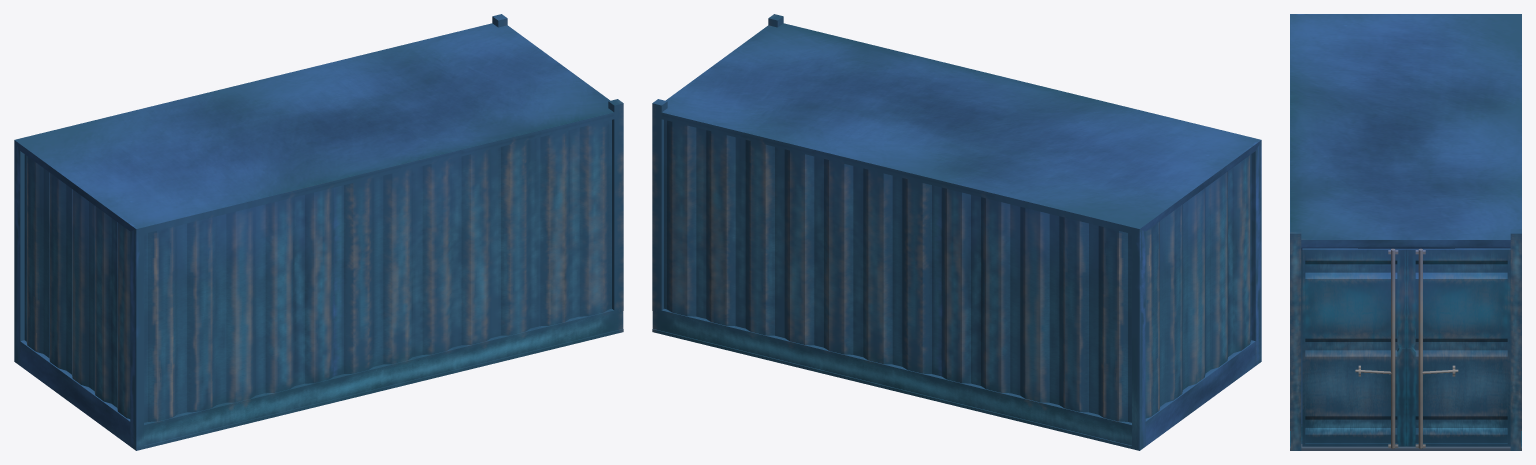
The model's file is container.glb.
3 views of the same model, side by side, from view 1: azimuth 30°, elevation 25°; view 2: azimuth 150°, elevation 25°; view 3: azimuth 270°, elevation 25° (orthographic). The views are drawn at different scales.
Parts seen in each view (by area): view 1: container; view 2: container; view 3: container.
Part boxes in pixels (x1,y1,x2,y2): container: [14, 14, 623, 450]; container: [652, 14, 1261, 450]; container: [1290, 14, 1521, 450].
Bounding box in the file's own units: 669 × 299 × 289.
Materials: 1 (1 with a texture image).
